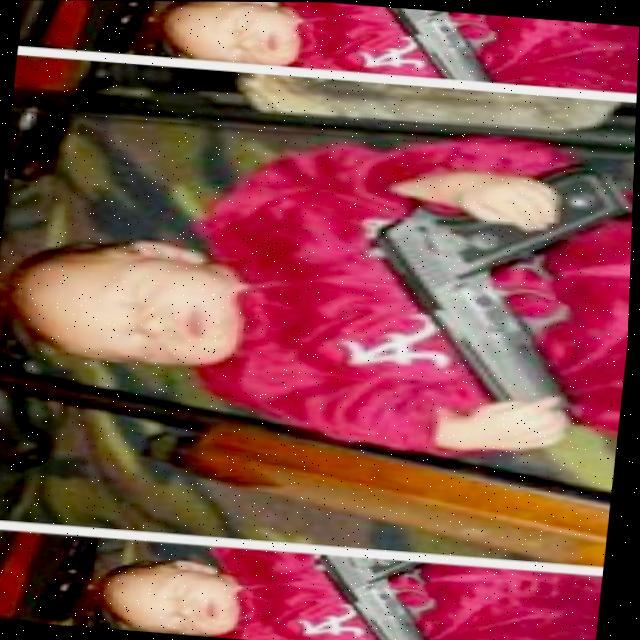pistol: (338, 139, 636, 416), (300, 552, 451, 640), (377, 6, 498, 82)
